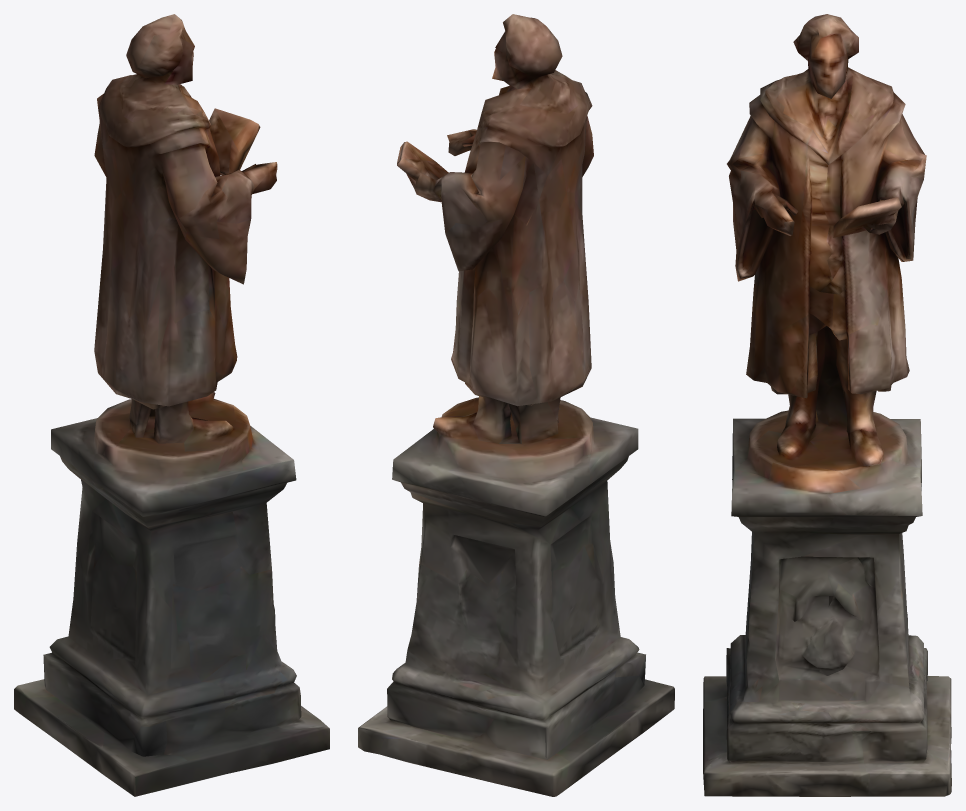
File: founder-statue.glb
3 renders of one model, left to right at view 1: azimuth 30°, elevation 25°; view 2: azimuth 150°, elevation 25°; view 3: azimuth 270°, elevation 25°, orthographic. The views are drawn at different scales.
Visible parts, largest first — view 1: tripo_node_5aa5115c-74eb-433f-bc48-6f912f18d95d; view 2: tripo_node_5aa5115c-74eb-433f-bc48-6f912f18d95d; view 3: tripo_node_5aa5115c-74eb-433f-bc48-6f912f18d95d.
Part boxes in pixels (left/top/right/bottom): tripo_node_5aa5115c-74eb-433f-bc48-6f912f18d95d: left=14, top=14, right=329, bottom=796; tripo_node_5aa5115c-74eb-433f-bc48-6f912f18d95d: left=358, top=14, right=674, bottom=796; tripo_node_5aa5115c-74eb-433f-bc48-6f912f18d95d: left=703, top=14, right=951, bottom=796.
Bounding box in the file's own units: 0.2944 × 1 × 0.3086.
Materials: 1 (1 with a texture image).
